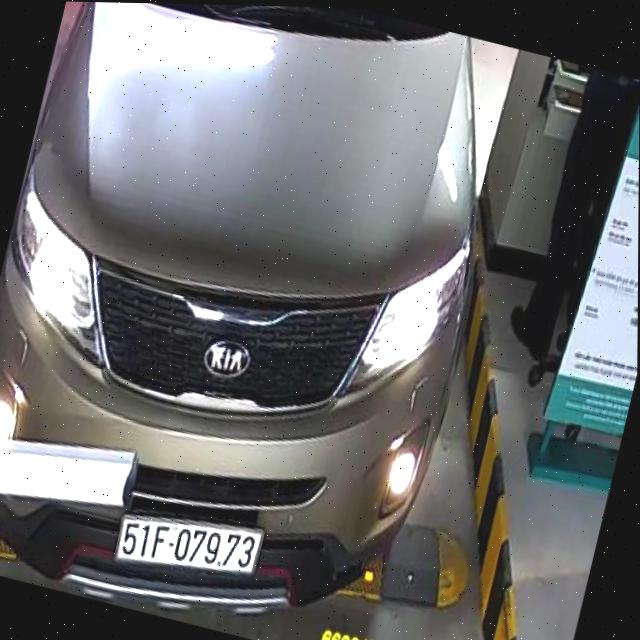car: (0, 0, 530, 640)
plate: (112, 500, 265, 590)
